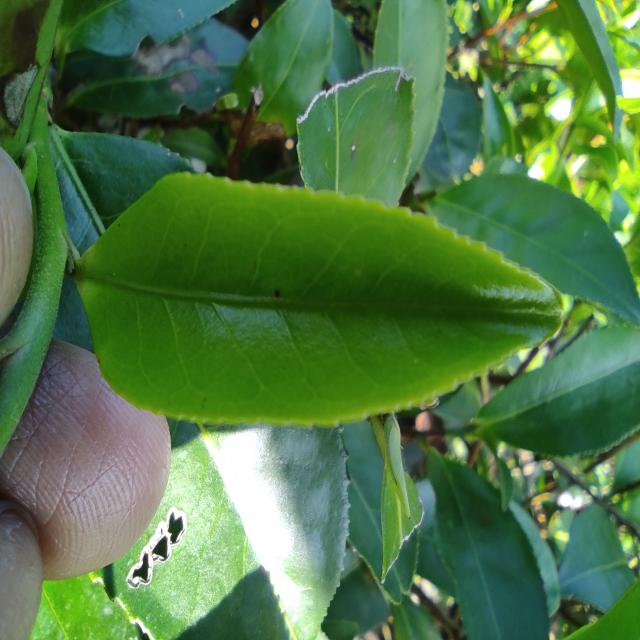Category C(4-7 days): (31, 123, 571, 454)
